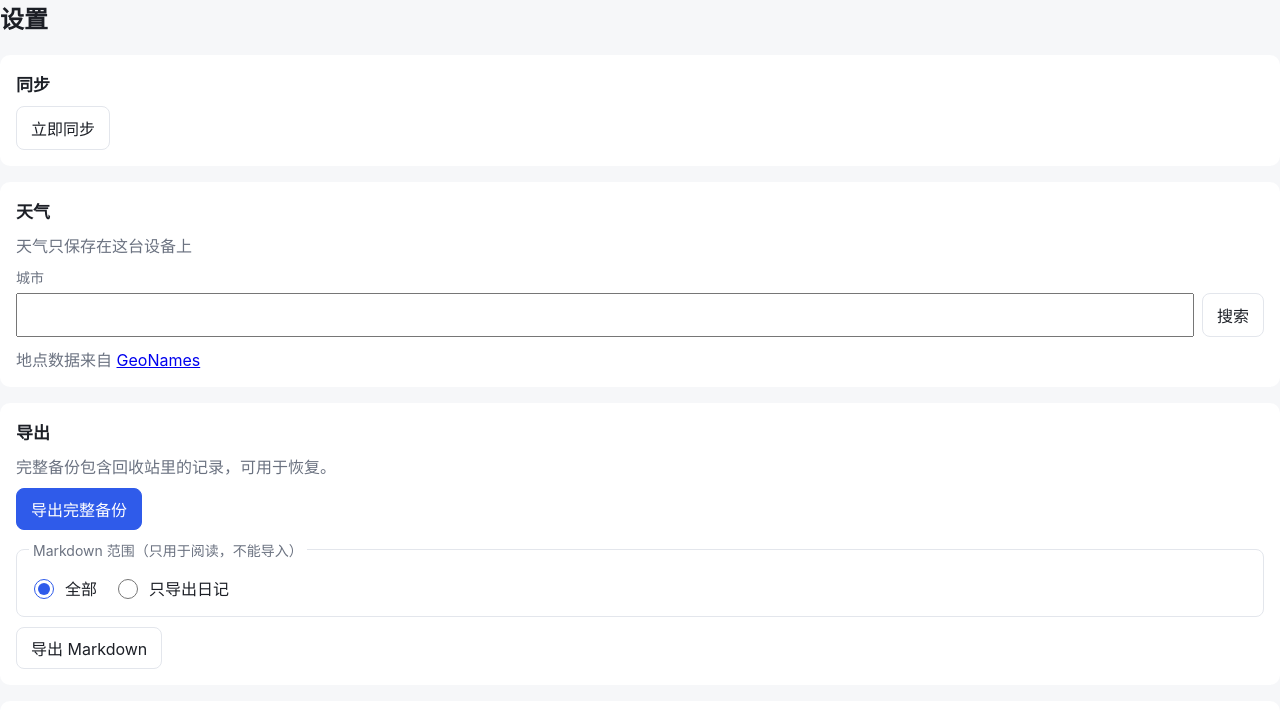
Test: Settings: sync now › shows the result line: ok, counts
Click the button "立即同步" at (63, 128), box [16, 106, 110, 150]
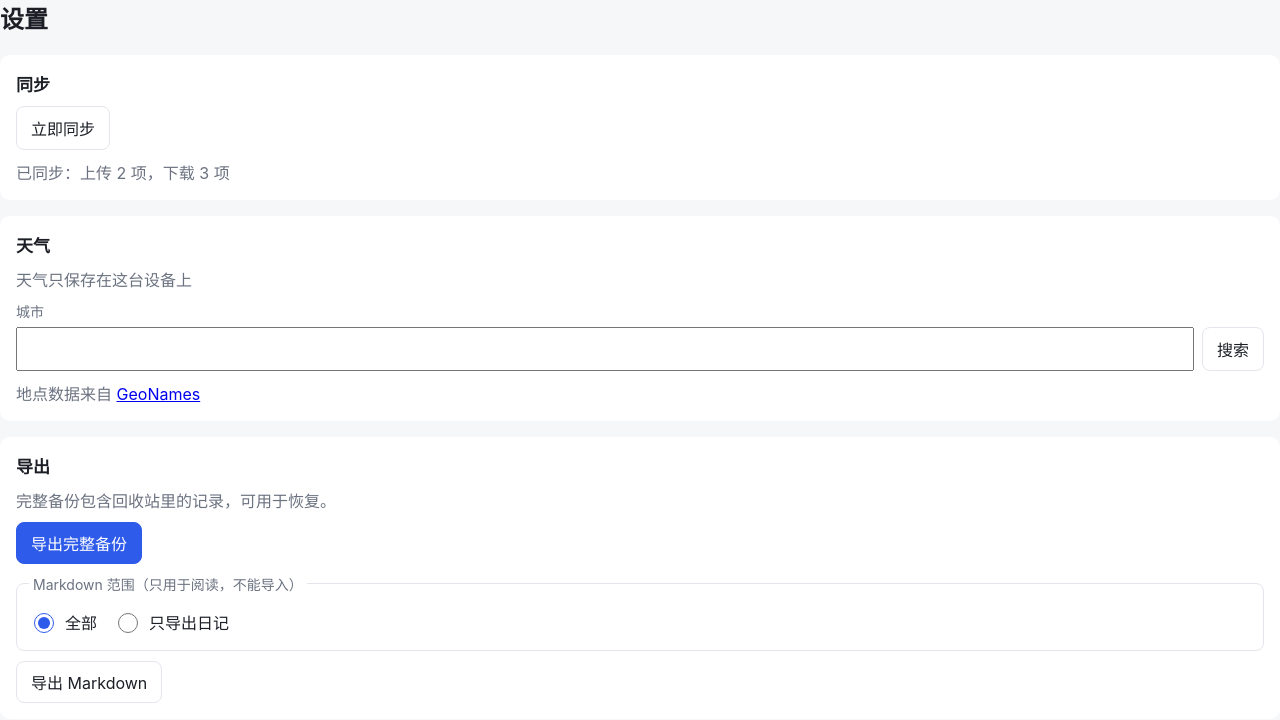
Expected: the text "已同步：上传 2 项，下载 3 项" is shown, [16, 160, 230, 184]
